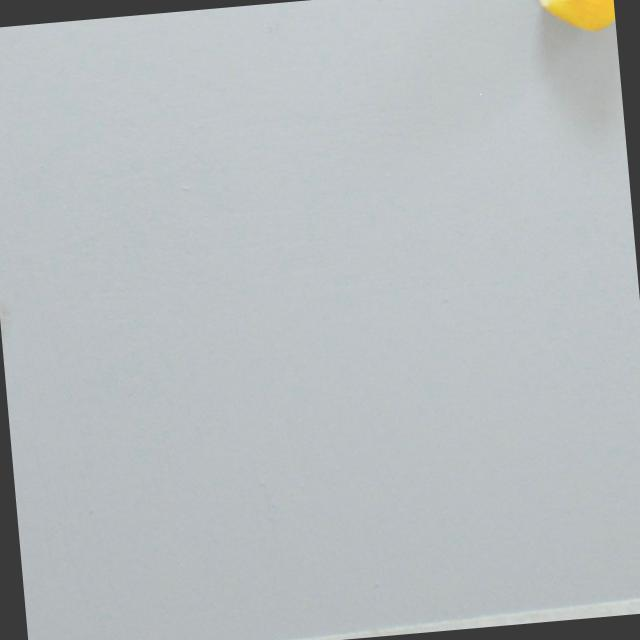punto_negro: (534, 0, 616, 37)
